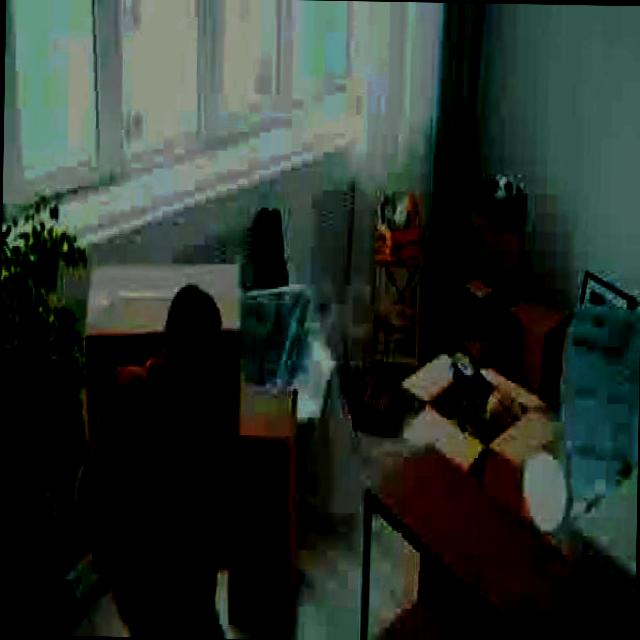Box: (230, 391, 295, 526), (502, 298, 568, 392), (228, 526, 292, 608), (461, 226, 522, 286)
